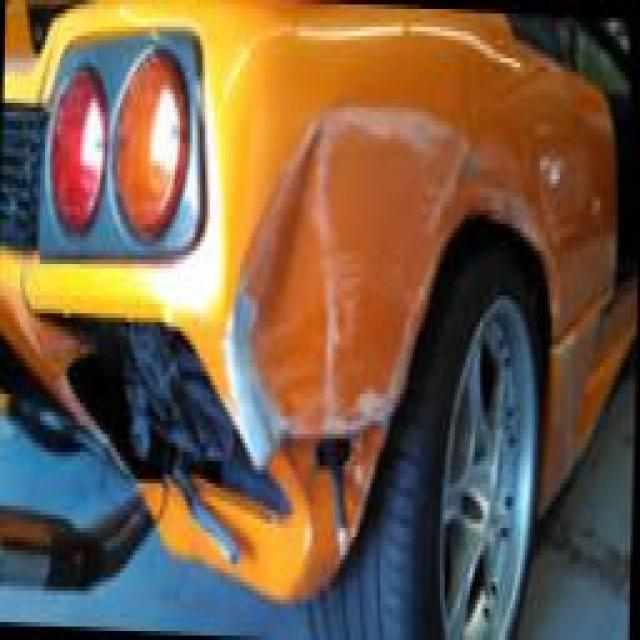Bumper: (3, 283, 367, 604), (539, 305, 635, 511)
Fender: (213, 97, 500, 455), (478, 87, 609, 343)
